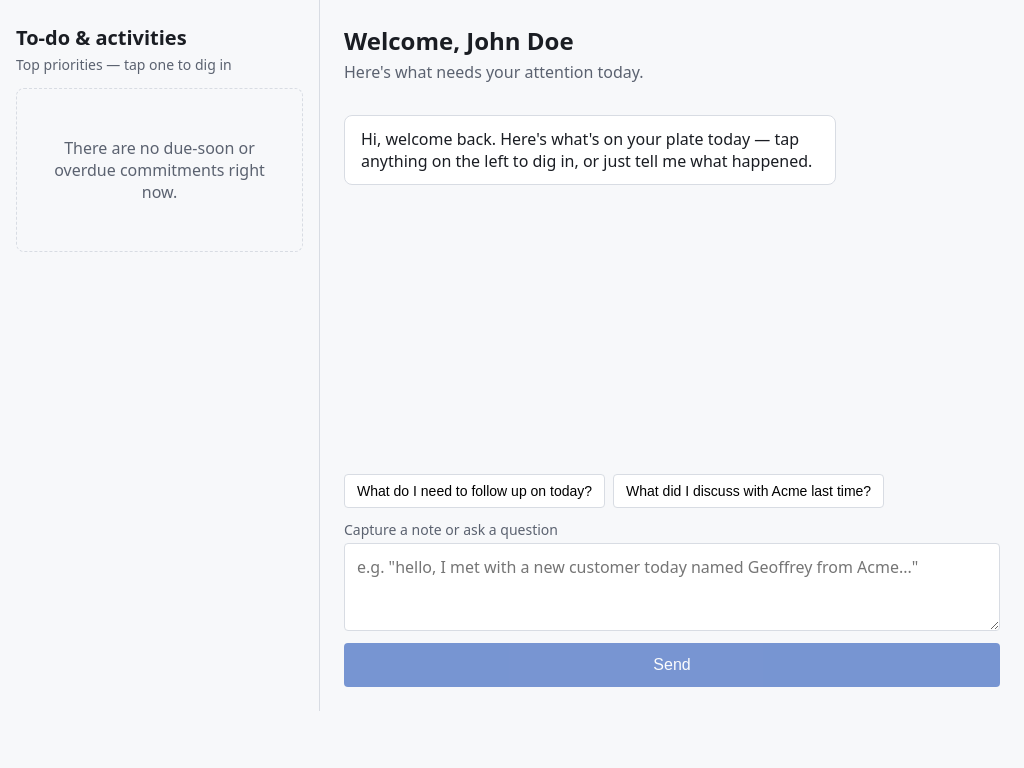
Test case: HomePage › routes a question-shaped entry to /qa, not /interactions
Expected: the text "There are no due-soon or overdue commitments right now." is shown, x1=49 y1=137 x2=270 y2=203
Type "What did we discuss last time with Acme?" into the text box labelled "Capture a note or ask a question" at (672, 587), box x1=344 y1=543 x2=1000 y2=631
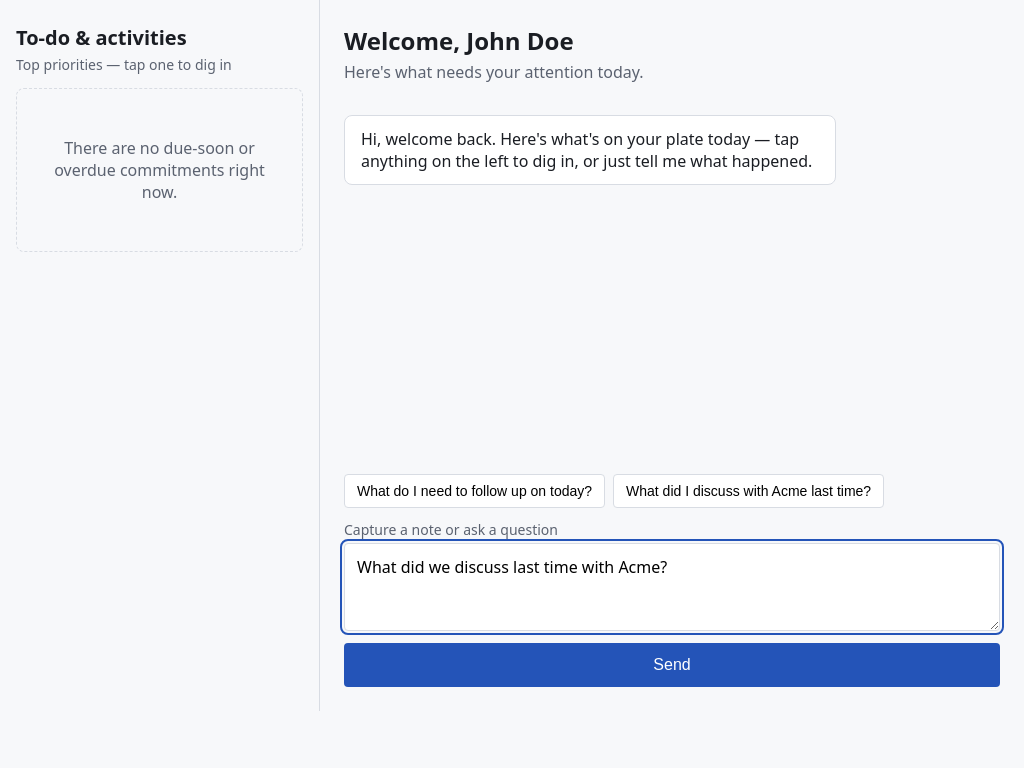
Click the button "Send" at (672, 665), box x1=344 y1=643 x2=1000 y2=687
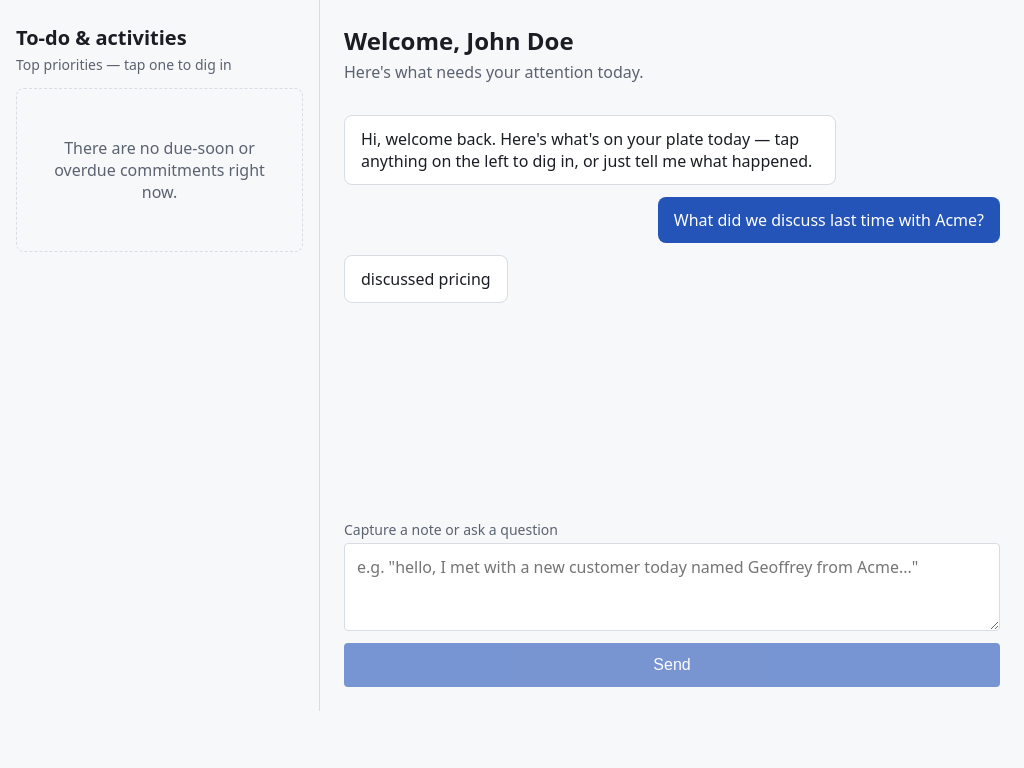
Expected: the text "discussed pricing" is shown, x1=344 y1=255 x2=508 y2=303
